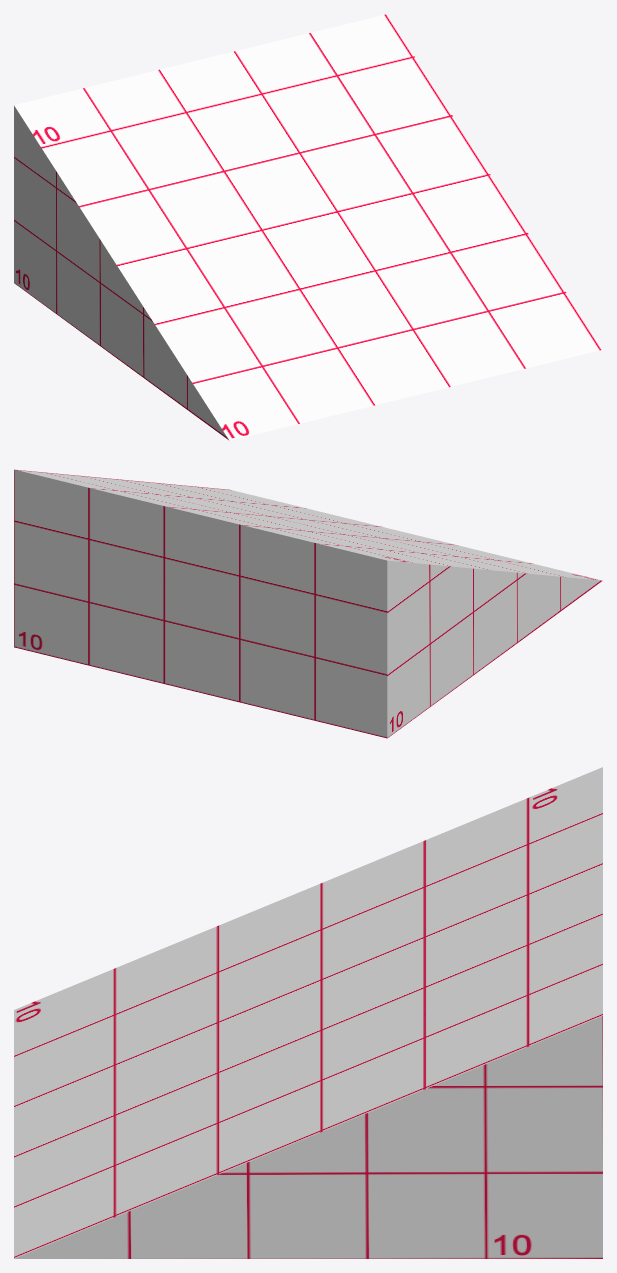
The model's file is Mesh_Slope_5x5_30.fbx.
3 renders of one model, top to bottom at view 1: azimuth 30°, elevation 25°; view 2: azimuth 150°, elevation 25°; view 3: azimuth 270°, elevation 25°, orthographic. The views are drawn at different scales.
Parts seen in each view (by area): view 1: Mesh_Slope_5x5_30; view 2: Mesh_Slope_5x5_30; view 3: Mesh_Slope_5x5_30.
Boxes of the visible parts, x1,y1,x2,y2 form: Mesh_Slope_5x5_30: (14,14,602,440); Mesh_Slope_5x5_30: (14,469,602,738); Mesh_Slope_5x5_30: (14,767,602,1258).
Size of the model in its own units: 500 by 228 by 500.
